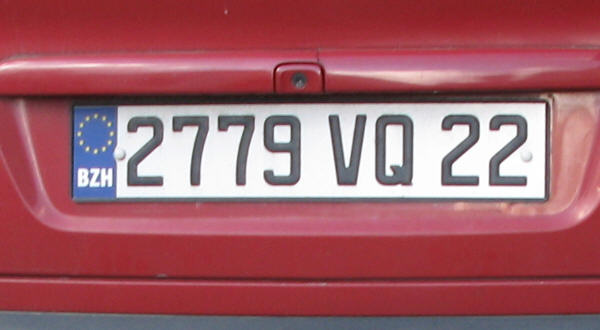license_plate: (73, 101, 547, 199)
